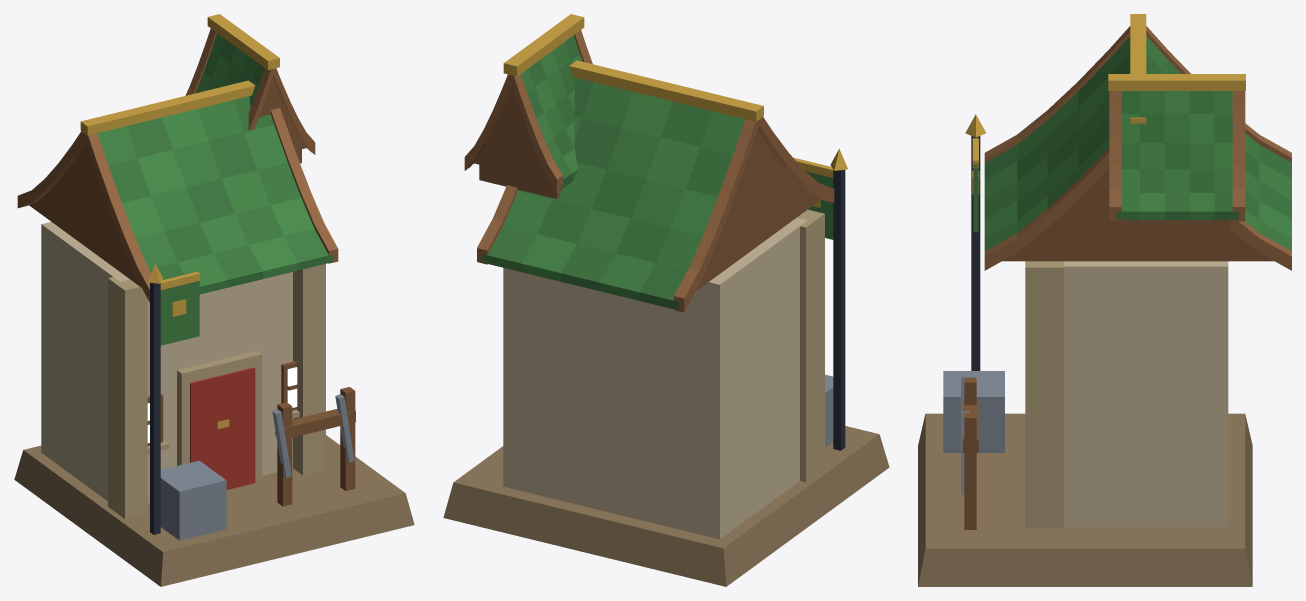
Rendered from camp_ranger_t2.glb.
3 renders of one model, left to right at view 1: azimuth 30°, elevation 25°; view 2: azimuth 150°, elevation 25°; view 3: azimuth 270°, elevation 25°, orthographic. The views are drawn at different scales.
Parts seen in each view (by area): view 1: body; view 2: body; view 3: body.
Boxes of the visible parts, bbox=[...] form: body: bbox=[14, 14, 414, 586]; body: bbox=[443, 14, 889, 586]; body: bbox=[918, 14, 1291, 586].
Size of the model in its own units: 1.9 by 2.99 by 2.12.
